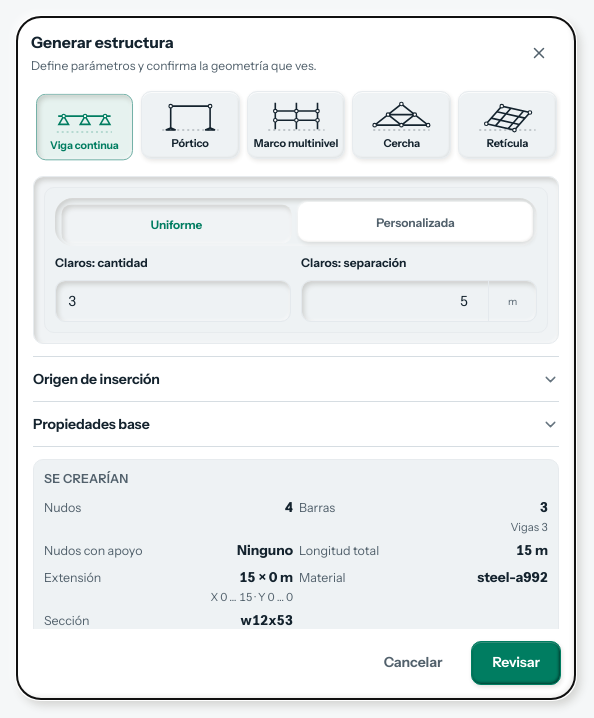
Test: errores y estado › la razón por la que no se puede revisar es texto anunciado, no un botón mudo
Clear the number field labelled "Claros: cantidad": (173, 301) [56,281,290,321]
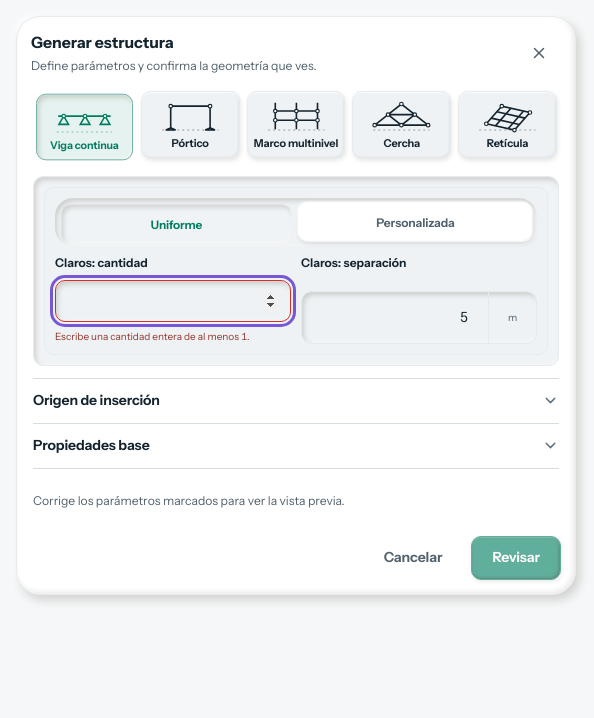
Expected: the message "Corrige los parámetros marcados para ver la vista previa." is shown, [33,493,345,508]
Expected: the button "Revisar" is disabled, [471,536,561,580]
